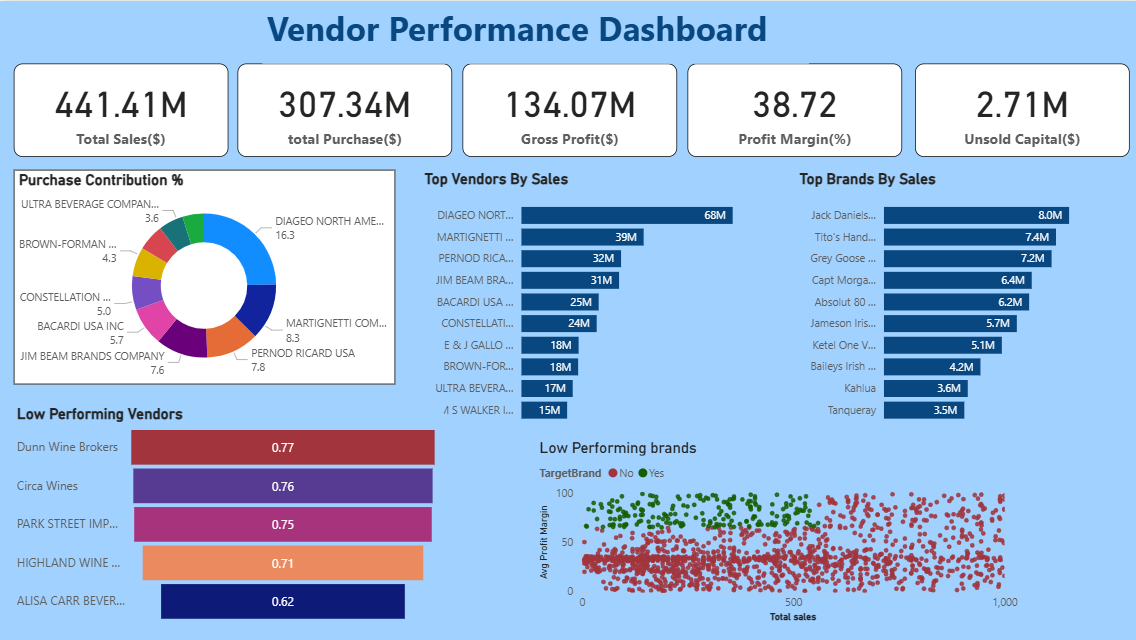

This screenshot's page, from the dashboard's own definition file:
{"tool":"powerbi","page":{"name":"Page 1","canvas":[1280,720],"ordinal":0},"visuals":[{"type":"card","title":"Total Sales($)","fields":{"Values":["Sum(vendor_sales_summary.TotalSalesDollars)"]},"box":[15.4,70.1,241.2,105.2],"z":0},{"type":"card","fields":{"Values":["Sum(vendor_sales_summary.TotalPurchaseDollars)"]},"box":[266.4,70.1,241.2,105.2],"z":1},{"type":"card","fields":{"Values":["Sum(vendor_sales_summary.GrossProfit)"]},"box":[518.8,70.1,241.2,105.2],"z":2},{"type":"card","fields":{"Values":["Avg(vendor_sales_summary.ProfitMargin)"]},"box":[771.3,70.1,241.2,105.2],"z":3},{"type":"card","fields":{"Values":["Sum(vendor_sales_summary.UnsoldCapital)"]},"box":[1026.5,70.1,241.2,105.2],"z":4},{"type":"donutChart","title":"Purchase Contribution % ","fields":{"Y":["Sum(PurchaseContribution.PurchaseContribution%)"],"Category":["PurchaseContribution.VendorName"]},"box":[15.4,189.3,427.7,241.2],"z":5},{"type":"clusteredBarChart","title":"Top Vendors By Sales","fields":{"Category":["vendor_sales_summary.VendorName"],"Y":["Sum(vendor_sales_summary.TotalSalesDollars)"]},"box":[471.2,189.3,402.5,294.5],"z":6},{"type":"clusteredBarChart","title":"Top Brands By Sales","fields":{"Category":["vendor_sales_summary.Description"],"Y":["Sum(vendor_sales_summary.TotalSalesDollars)"]},"box":[891.8,189.3,347.8,294.5],"z":7},{"type":"funnel","title":"Low Performing Vendors","fields":{"Category":["LowTurnoverVendor.VendorName"],"Y":["Sum(LowTurnoverVendor.AvgStockTurnOver)"]},"box":[14,452.9,483.8,249.6],"z":8},{"type":"scatterChart","title":"Low Performing brands","fields":{"Category":["BrandPerformance.Description"],"X":["Sum(BrandPerformance.TotalSales)"],"Series":["BrandPerformance.TargetBrand"],"Y":["Sum(BrandPerformance.AvgProfitMargin)"]},"box":[600.2,490.8,546.9,211.7],"z":9},{"type":"textbox","box":[294.5,0,612.8,70.1],"z":10}]}

Visuals, with their boxes in screenshot pixels (x1, y1, x2, y2), scaled from the page's 1280x720 canvas onto the 1136x640 screenshot:
"Total Sales($)" card: Rect(14, 62, 228, 156)
card - Sum(vendor_sales_summary.TotalPurchaseDollars): Rect(236, 62, 450, 156)
card - Sum(vendor_sales_summary.GrossProfit): Rect(460, 62, 674, 156)
card - Avg(vendor_sales_summary.ProfitMargin): Rect(685, 62, 899, 156)
card - Sum(vendor_sales_summary.UnsoldCapital): Rect(911, 62, 1125, 156)
"Purchase Contribution % " donutChart: Rect(14, 168, 393, 383)
"Top Vendors By Sales" clusteredBarChart: Rect(418, 168, 775, 430)
"Top Brands By Sales" clusteredBarChart: Rect(791, 168, 1100, 430)
"Low Performing Vendors" funnel: Rect(12, 403, 442, 624)
"Low Performing brands" scatterChart: Rect(533, 436, 1018, 624)
textbox: Rect(261, 0, 805, 62)
